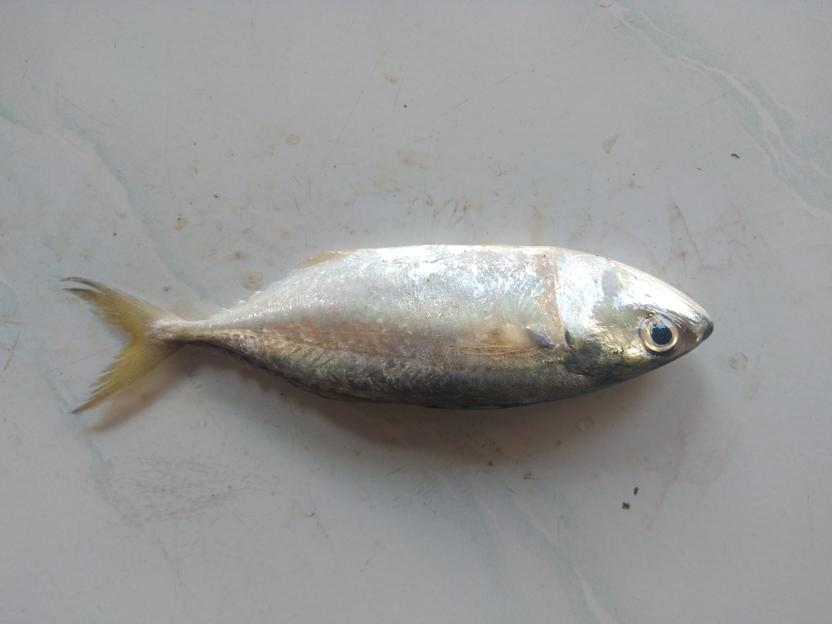Fish head: (559, 245, 717, 401)
Fish tail: (59, 274, 184, 416)
